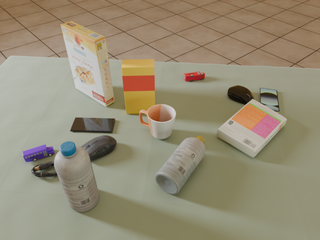book: (217, 99, 287, 157)
bottle: (54, 141, 99, 212), (155, 136, 205, 194)
box: (61, 21, 114, 107), (122, 59, 155, 114)
cup: (139, 104, 176, 139)
mouse: (81, 135, 116, 160), (228, 86, 254, 105)
phone: (70, 118, 115, 132), (259, 88, 279, 113)
toy_car: (23, 145, 54, 162), (184, 71, 205, 81)
